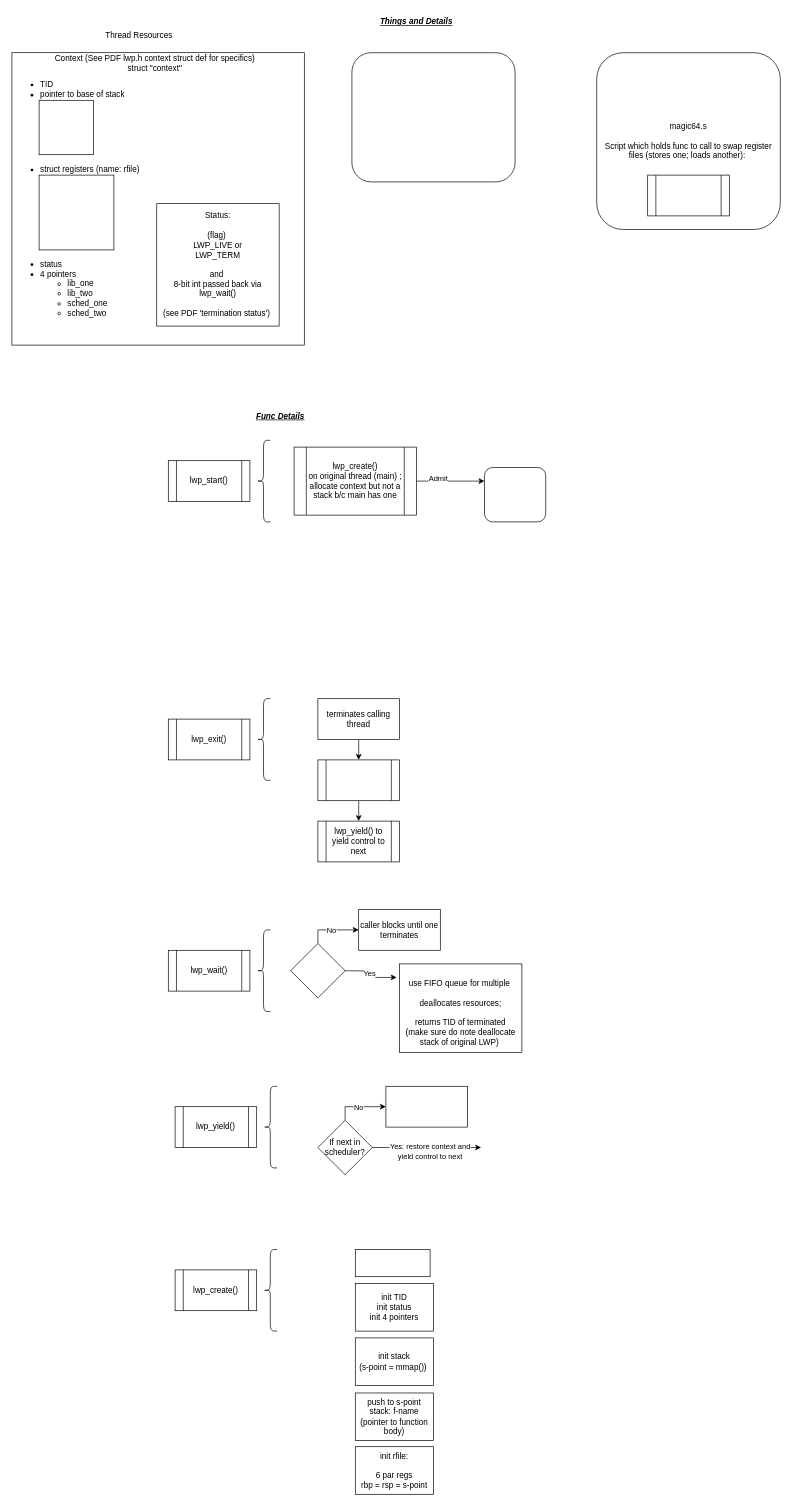
The diagram is 792 pixels wide and 1506 high, and some of its shapes have lost their labels. The shapes that lost their labels are listed below. From the top down, each one's centre as x and y in pixels, then its label:
(x=66, y=127): Stack - created w/ mmap(2) - undone w/ munmap(2)
(x=433, y=117): struct "scheduler" Funcs sched-> init() shudown() admit() remove() next() qlen()
(x=76, y=212): struct "rfile" (register file) (register values) (loaded via swap_rfiles())
(x=688, y=195): swap_rfiles()
(x=515, y=494): Scheduler
(x=358, y=780): lwp_wait() to deallocate resources
(x=317, y=970): any LWP's terminate?
(x=426, y=1106): Call exit(3) w/ termination status of calling thread
(x=392, y=1263): lwpfun function, void*argument
